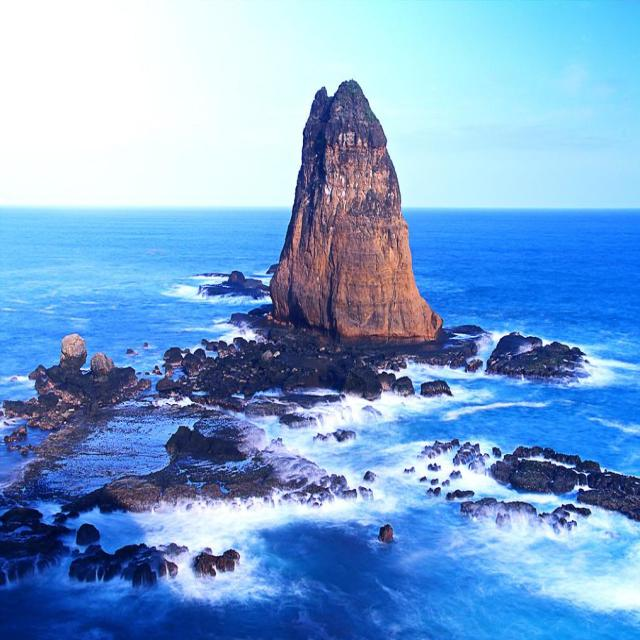reef: (260, 64, 440, 366)
